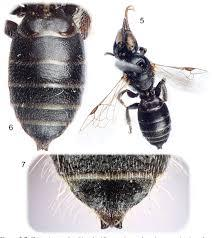Braunsapis: (91, 4, 194, 149), (5, 0, 84, 151)
